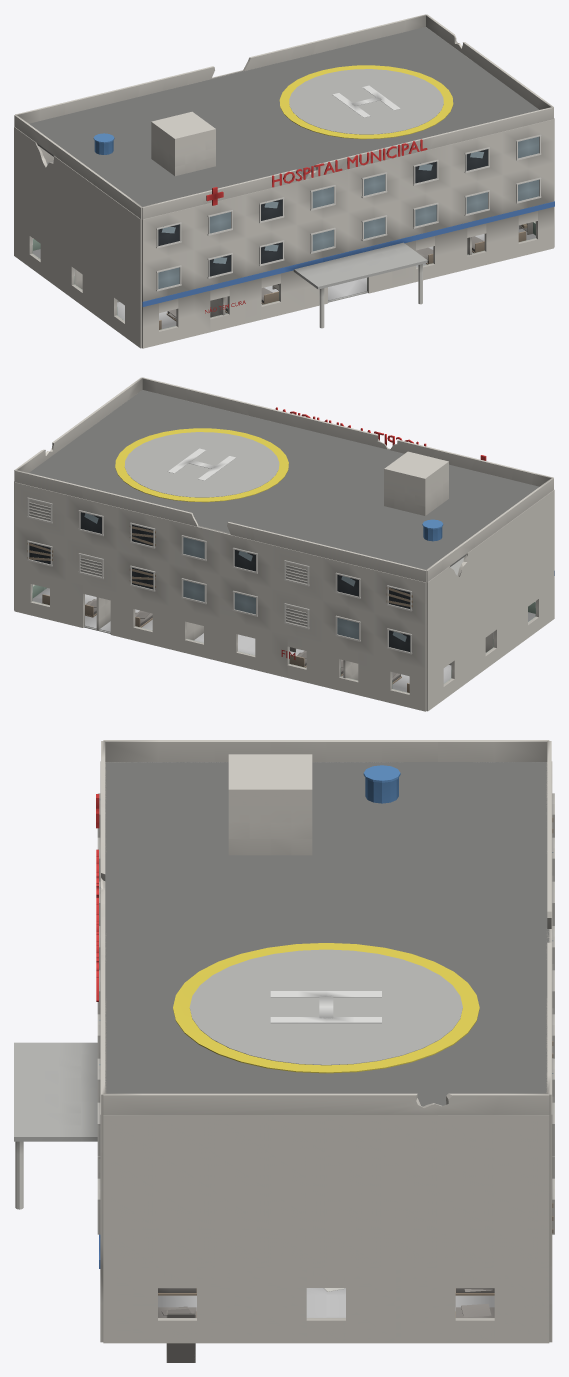
The model's file is hospital.glb.
3 renders of one model, top to bottom at view 1: azimuth 30°, elevation 25°; view 2: azimuth 150°, elevation 25°; view 3: azimuth 270°, elevation 25°, orthographic. The views are drawn at different scales.
Visible parts, largest first — view 1: ext, longe, dentro, detalhe; view 2: ext, longe, dentro, detalhe; view 3: longe, ext, dentro, detalhe, estante_h12_-4.
Part boxes in pixels (x1,y1,x2,y2): ext: (14, 27, 554, 348); longe: (14, 14, 554, 306); dentro: (29, 27, 538, 329); detalhe: (93, 85, 541, 328); ext: (14, 393, 554, 711); longe: (14, 377, 554, 582); dentro: (29, 390, 539, 692); detalhe: (27, 448, 486, 659); longe: (14, 740, 551, 1268); ext: (100, 761, 552, 1343); dentro: (105, 762, 549, 1317); detalhe: (15, 754, 554, 1234); estante_h12_-4: (166, 1310, 195, 1362).
Size of what is drawn, in the model's own units: 30.22 by 12.49 by 19.4.
